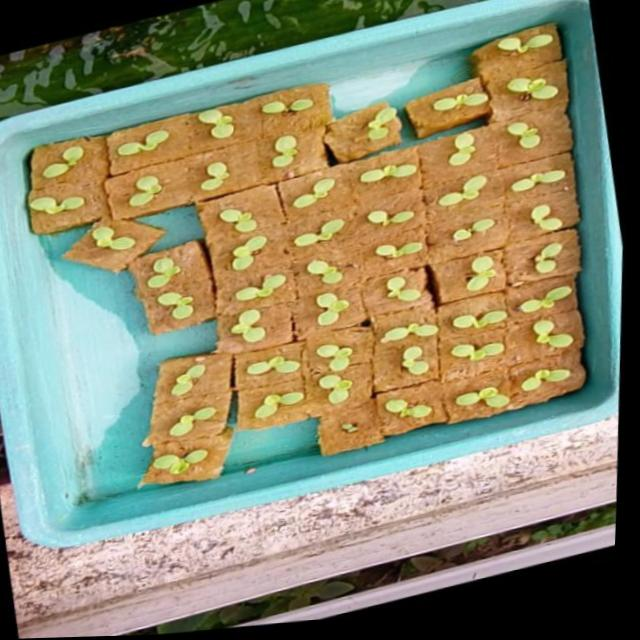Baby: (37, 139, 102, 177), (95, 216, 156, 256), (497, 113, 564, 147), (115, 127, 177, 159), (452, 213, 515, 244), (221, 232, 276, 267), (257, 345, 312, 379), (530, 279, 592, 309), (391, 265, 439, 300), (241, 265, 293, 297), (548, 238, 592, 275), (448, 170, 498, 202), (57, 175, 114, 203), (150, 247, 188, 285), (179, 401, 226, 431), (162, 444, 218, 469), (304, 214, 354, 242), (523, 164, 577, 187), (393, 319, 452, 340), (242, 304, 277, 338), (470, 384, 524, 406), (479, 252, 512, 288), (534, 366, 585, 389), (266, 392, 314, 416), (328, 287, 361, 321), (549, 316, 589, 344), (206, 104, 242, 135), (375, 202, 427, 223), (182, 359, 216, 391), (227, 201, 265, 229), (466, 306, 521, 325), (328, 339, 365, 367), (331, 368, 364, 399), (140, 171, 172, 202), (398, 395, 446, 415), (385, 236, 433, 255), (459, 128, 487, 160), (316, 256, 353, 280), (167, 292, 203, 316), (542, 201, 575, 227), (281, 130, 307, 163), (311, 174, 342, 201), (415, 343, 443, 372), (210, 157, 238, 186), (476, 339, 517, 357)
